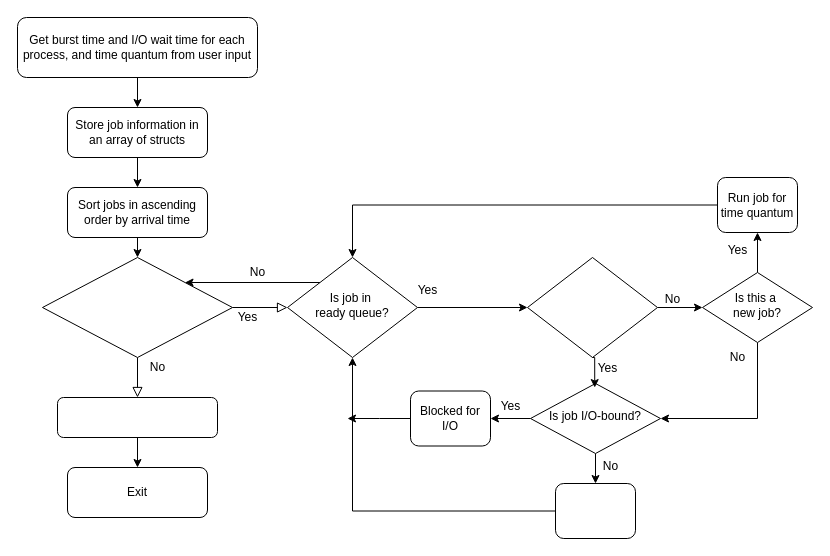
Image size: 830x556. Some labels were removed from this diagram. Each missing label, with the box of its shape:
Any remaining jobs (not yet arrived or still blocked)?: (42, 256, 232, 358)
Print final analysis to console and save as separate .txt file: (56, 396, 218, 438)
Remaining burst time < Time Quantum?: (526, 256, 658, 358)
Run job: (554, 482, 636, 538)
